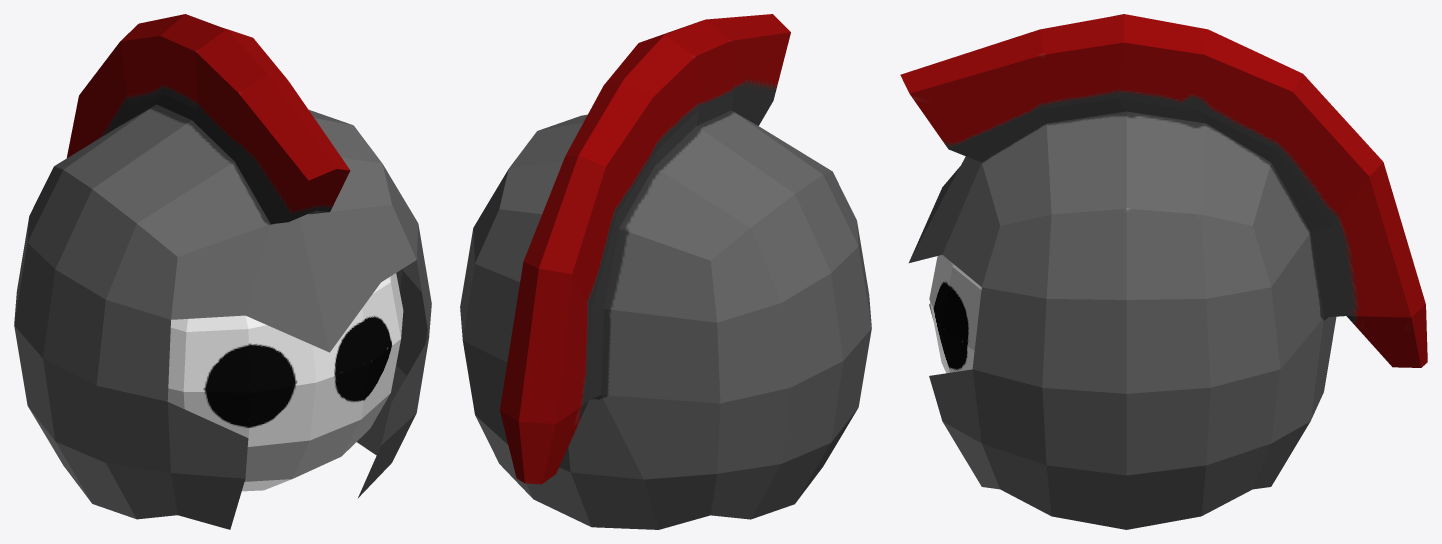
The model's file is player_body.obj.
The picture shows the model from 3 angles, left to right: view 1: azimuth 30°, elevation 25°; view 2: azimuth 150°, elevation 25°; view 3: azimuth 270°, elevation 25°; orthographic projection. The views are drawn at different scales.
Parts seen in each view (by area): view 1: Cube.001; view 2: Cube.001; view 3: Cube.001.
Boxes of the visible parts, x1,y1,x2,y2 form: Cube.001: [14, 14, 431, 529]; Cube.001: [460, 14, 871, 529]; Cube.001: [900, 14, 1427, 529].
Size of the model in its own units: 1.08 by 1.27 by 1.35.
Materials: 1 (1 with a texture image).
